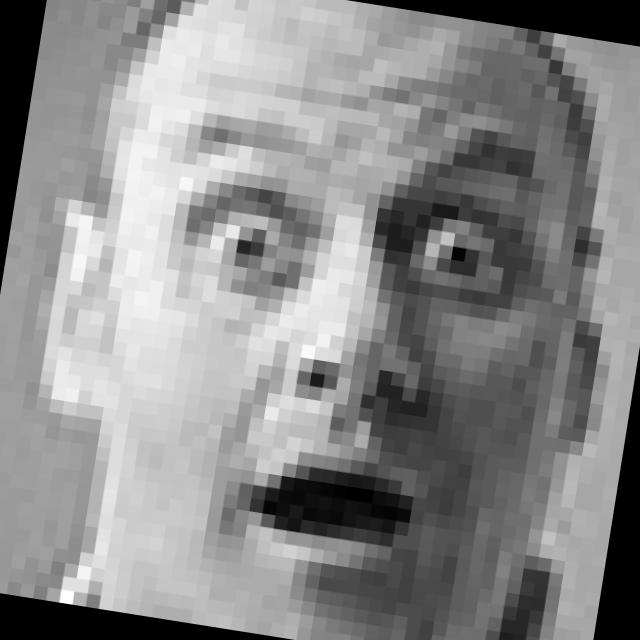surprise: (104, 87, 558, 610)
